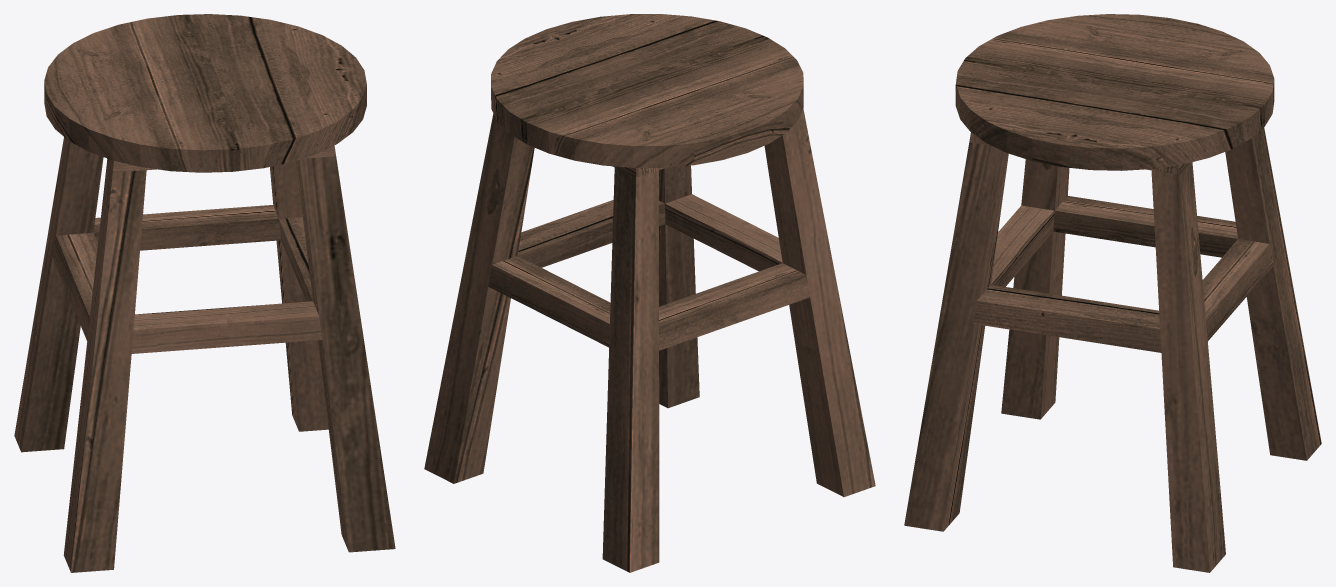
File: Stool NEW.fbx
The picture shows the model from 3 angles, left to right: view 1: azimuth 30°, elevation 25°; view 2: azimuth 150°, elevation 25°; view 3: azimuth 270°, elevation 25°; orthographic projection. The views are drawn at different scales.
Parts seen in each view (by area): view 1: Stool; view 2: Stool; view 3: Stool.
Boxes of the visible parts, left/top/right/bottom form: Stool: left=14, top=14, right=395, bottom=572; Stool: left=424, top=14, right=875, bottom=572; Stool: left=904, top=14, right=1321, bottom=572.
Bounding box in the file's own units: 51.31 × 54.8 × 51.31.
